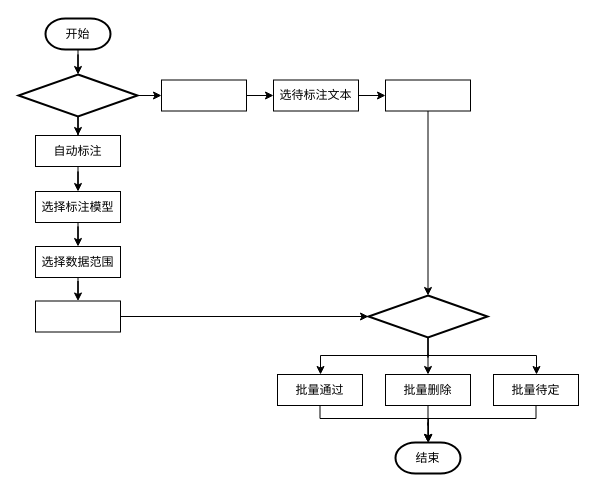
This 596x491 diagram has some shape labels left out. Here are the shapes that lost their labels. From the top down, the centre of each, then its label:
At point 77,95: "选择标注方式".
At point 203,95: "人工标注".
At point 427,95: "添加标签".
At point 77,316: "批量自动标注".
At point 427,316: "提交审核".
